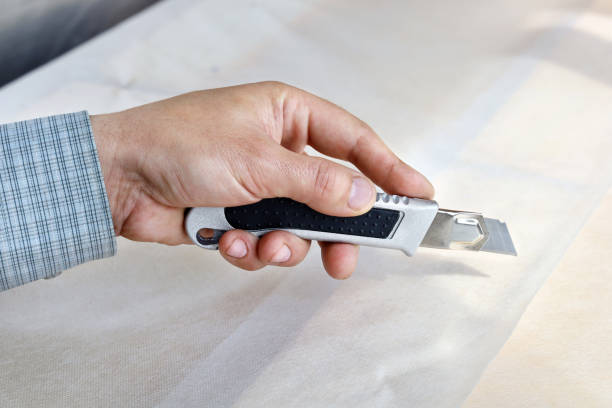knife: (187, 193, 520, 254)
